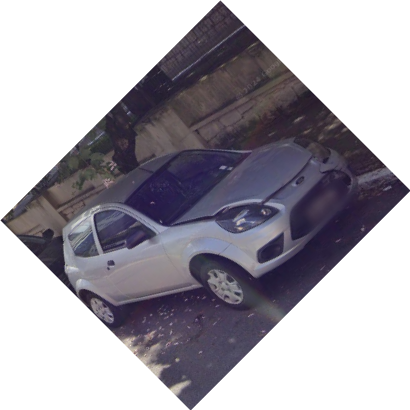car: (62, 137, 355, 326)
